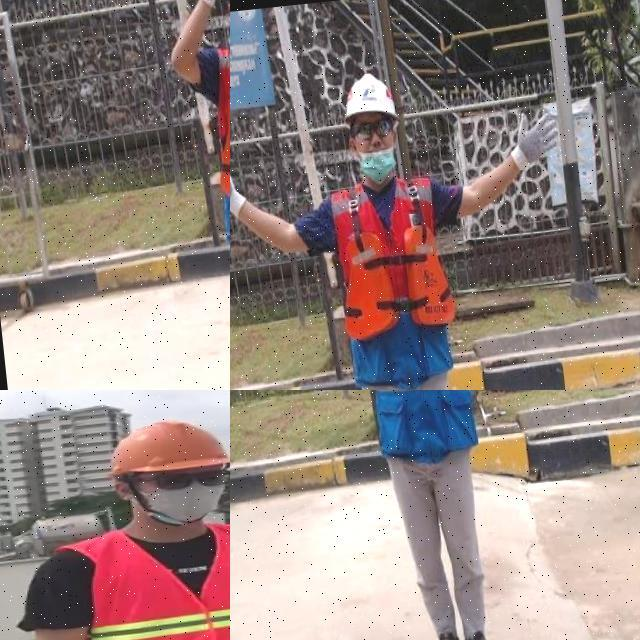boots: (425, 621, 465, 640), (458, 625, 508, 640)
helmet: (94, 408, 230, 484), (341, 70, 400, 128)
vest: (326, 173, 466, 388), (58, 516, 230, 640), (354, 390, 482, 462), (202, 34, 230, 240)
